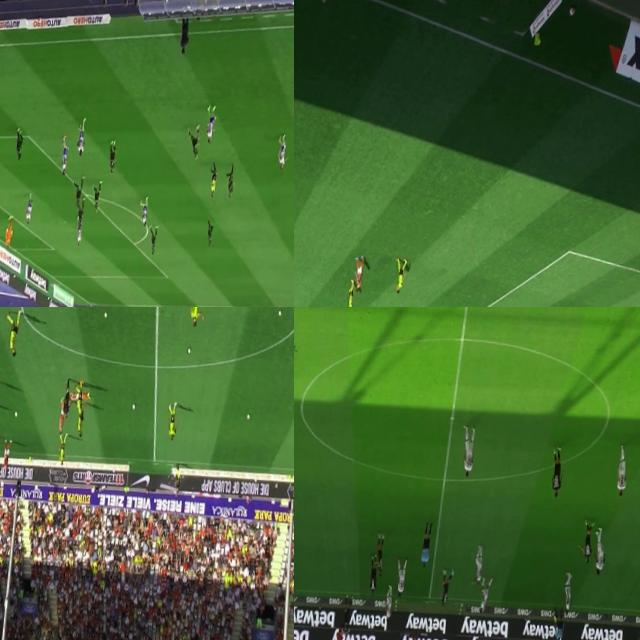ball: (340, 629, 347, 640), (277, 310, 282, 318), (130, 404, 135, 412), (246, 413, 250, 422), (186, 348, 192, 354), (12, 412, 18, 418), (103, 312, 107, 318)
player: (459, 423, 476, 478), (2, 309, 20, 356), (592, 526, 607, 574), (550, 448, 564, 497), (185, 122, 202, 162), (560, 568, 574, 616), (616, 444, 628, 497), (58, 134, 72, 178), (580, 520, 594, 564), (392, 258, 408, 296), (438, 569, 452, 610), (472, 544, 486, 584), (12, 128, 26, 166), (352, 256, 365, 294), (372, 536, 384, 577), (396, 558, 408, 598), (166, 402, 179, 438), (366, 556, 379, 592), (274, 135, 288, 168), (205, 108, 217, 146), (54, 396, 66, 434), (106, 138, 118, 175), (76, 120, 87, 160), (224, 166, 236, 202), (70, 176, 82, 211), (185, 307, 205, 328), (382, 586, 393, 624), (147, 228, 160, 260), (4, 213, 15, 250), (74, 380, 85, 416), (478, 578, 489, 614), (139, 196, 150, 228), (73, 214, 84, 246), (23, 195, 34, 227), (91, 182, 102, 214), (56, 434, 67, 466), (75, 404, 85, 436), (2, 437, 11, 471), (204, 221, 214, 250), (345, 276, 354, 307), (76, 202, 84, 230)
